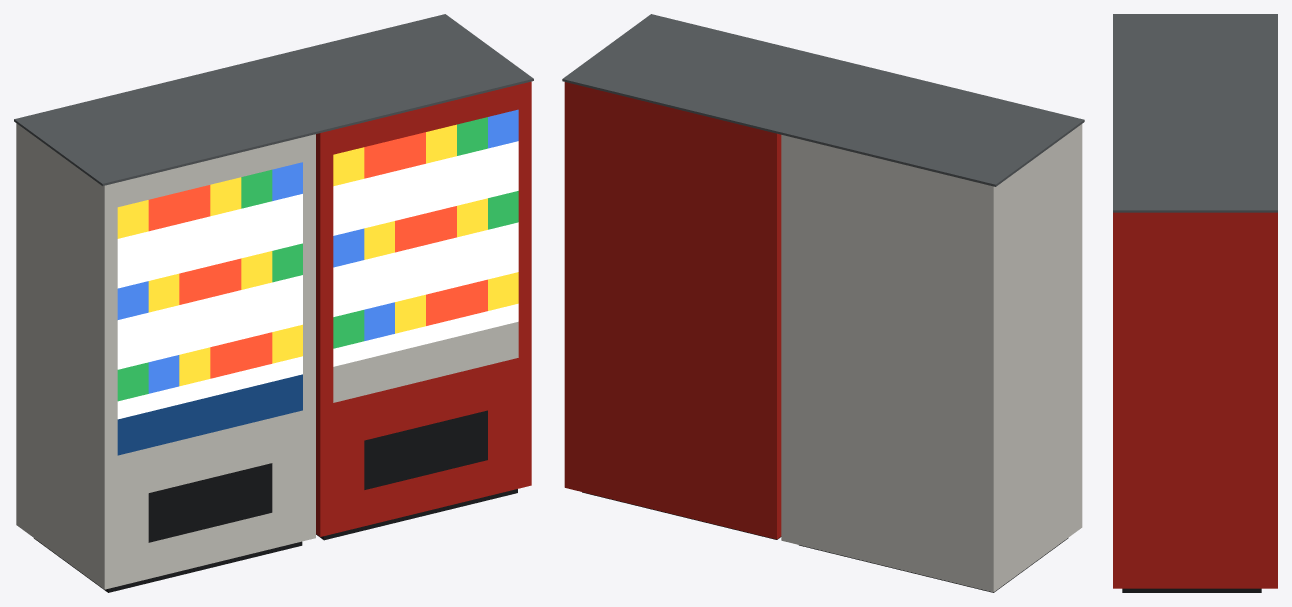
Rendered from tokyo_vending_machine.glb.
The picture shows the model from 3 angles, left to right: view 1: azimuth 30°, elevation 25°; view 2: azimuth 150°, elevation 25°; view 3: azimuth 270°, elevation 25°; orthographic projection. The views are drawn at different scales.
Parts seen in each view (by area): view 1: tokyo_vending_machine; view 2: tokyo_vending_machine; view 3: tokyo_vending_machine.
Boxes of the visible parts, x1=… form: tokyo_vending_machine: x1=14, y1=14, x2=533, y2=592; tokyo_vending_machine: x1=562, y1=14, x2=1084, y2=592; tokyo_vending_machine: x1=1113, y1=14, x2=1277, y2=592.
Size of the model in its own units: 2 by 1.84 by 0.71.
Materials: 1 (1 with a texture image).
